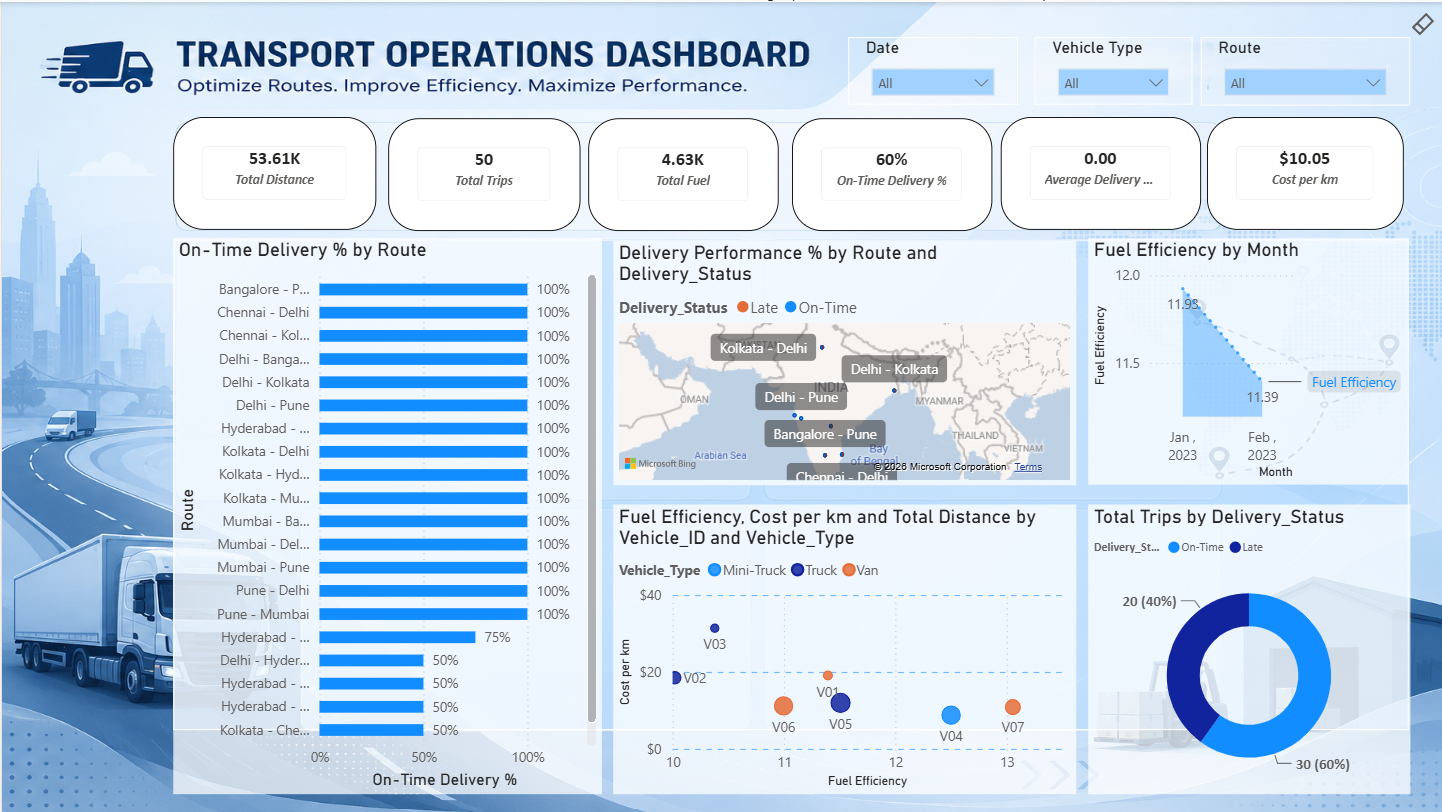

The dashboard page shown, as its layout file describes it:
{"tool":"powerbi","page":{"name":"Transport operation dashboard","canvas":[1280,720],"ordinal":0},"visuals":[{"type":"shape","box":[152.3,210.5,1095.4,434.9],"z":0},{"type":"slicer","title":"Date","fields":{"Values":["Trip_Data.Delivery_Date"]},"box":[750.5,31.6,150.5,60],"z":1000},{"type":"slicer","title":"Vehicle Type","fields":{"Values":["Vehicle_Master.Vehicle_Type"]},"box":[914.7,30.5,140,60],"z":2000},{"type":"slicer","title":"Route","fields":{"Values":["Trip_Data.Route"]},"box":[1063.2,30.5,185.3,61.1],"z":3000},{"type":"cardVisual","fields":{"Data":["Measure Table.On-Time Delivery %"]},"box":[700,103.2,177.9,100],"z":4000},{"type":"clusteredBarChart","fields":{"Y":["Measure Table.On-Time Delivery %"],"Category":["Trip_Data.Route"]},"box":[152.3,209.9,380.1,492.6],"z":5000},{"type":"cardVisual","fields":{"Data":["Measure Table.Cost per km"]},"box":[1068.4,102.1,174.7,100],"z":6000},{"type":"cardVisual","fields":{"Data":["Measure Table.Total Distance"]},"box":[152.3,102.3,180.2,100],"z":7000},{"type":"cardVisual","fields":{"Data":["Measure Table.Total Trips"]},"box":[342.1,103.2,170.5,100],"z":8000},{"type":"map","fields":{"Category":["Trip_Data.Route"],"Series":["Trip_Data.Delivery_Status"]},"box":[542,211.3,410.3,216.8],"z":9000},{"type":"cardVisual","fields":{"Data":["Measure Table.Total Fuel"]},"box":[520,103.2,168.4,100],"z":10000},{"type":"lineChart","fields":{"Y":["Measure Table.Fuel Efficiency"],"Category":["Trip_Data.Month"]},"box":[963.3,209.9,284,218.2],"z":11000},{"type":"cardVisual","fields":{"Data":["Measure Table.Average Delivery Time"]},"box":[885.3,102.1,177.9,100],"z":12000},{"type":"actionButton","box":[1240,0,40,40],"z":13000},{"type":"donutChart","fields":{"Category":["Trip_Data.Delivery_Status"],"Y":["Measure Table.Total Trips"]},"box":[963.3,446,285.4,256.6],"z":14000},{"type":"scatterChart","fields":{"X":["Measure Table.Fuel Efficiency"],"Y":["Measure Table.Cost per km"],"Size":["Measure Table.Total Distance"],"Series":["Vehicle_Master.Vehicle_Type"],"Category":["Trip_Data.Vehicle_ID"]},"box":[542,446,410.3,256.6],"z":15000}]}

Visuals, with their boxes in screenshot pixels (x1, y1, x2, y2), scaled from the page's 1280x720 canvas onto the 1442x812 screenshot:
shape: detection(172, 237, 1406, 728)
"Date" slicer: detection(845, 36, 1015, 103)
"Vehicle Type" slicer: detection(1030, 34, 1188, 102)
"Route" slicer: detection(1198, 34, 1407, 103)
cardVisual - Measure Table.On-Time Delivery %: detection(789, 116, 989, 229)
clusteredBarChart - Measure Table.On-Time Delivery % x Trip_Data.Route: detection(172, 237, 600, 792)
cardVisual - Measure Table.Cost per km: detection(1204, 115, 1400, 228)
cardVisual - Measure Table.Total Distance: detection(172, 115, 375, 228)
cardVisual - Measure Table.Total Trips: detection(385, 116, 577, 229)
map - Trip_Data.Route x Trip_Data.Delivery_Status: detection(611, 238, 1073, 483)
cardVisual - Measure Table.Total Fuel: detection(586, 116, 776, 229)
lineChart - Measure Table.Fuel Efficiency x Trip_Data.Month: detection(1085, 237, 1405, 483)
cardVisual - Measure Table.Average Delivery Time: detection(997, 115, 1198, 228)
actionButton: detection(1397, 0, 1441, 45)
donutChart - Trip_Data.Delivery_Status x Measure Table.Total Trips: detection(1085, 503, 1407, 792)
scatterChart - Measure Table.Fuel Efficiency x Measure Table.Cost per km: detection(611, 503, 1073, 792)
